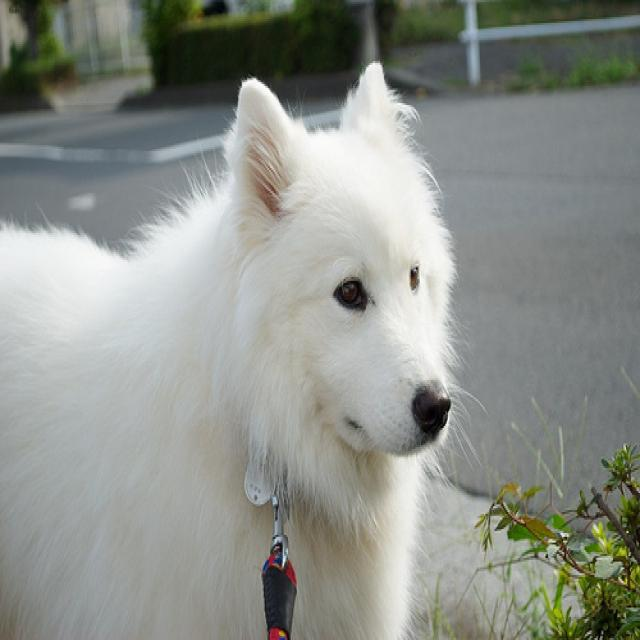dog-samoyed: (1, 52, 484, 636)
